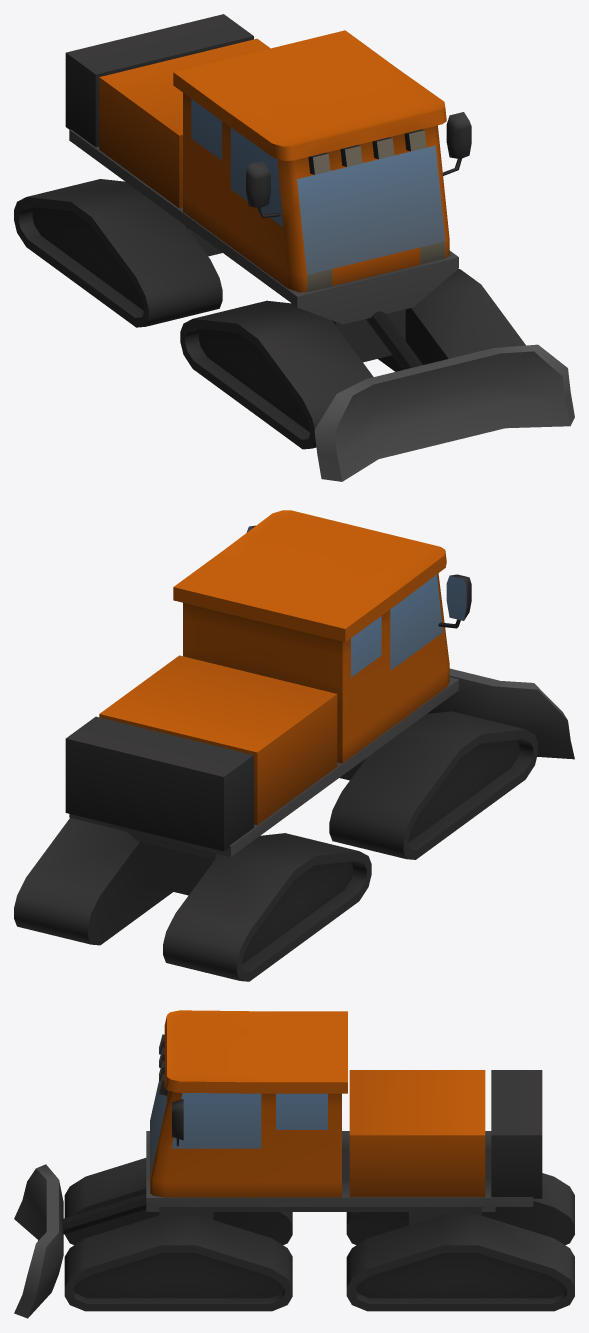
Rendered from vehicles-work-vehicles-snowcat_v1.fbx.
3 renders of one model, top to bottom at view 1: azimuth 30°, elevation 25°; view 2: azimuth 150°, elevation 25°; view 3: azimuth 270°, elevation 25°, orthographic. The views are drawn at different scales.
Visible parts, largest first — view 1: Snowcat; view 2: Snowcat; view 3: Snowcat.
Boxes of the visible parts, box(x1,y1,x2,y2) form: Snowcat: box(14, 14, 574, 481); Snowcat: box(14, 510, 574, 981); Snowcat: box(14, 1010, 574, 1318).
Size of the model in its own units: 3.54 by 3.47 by 8.
